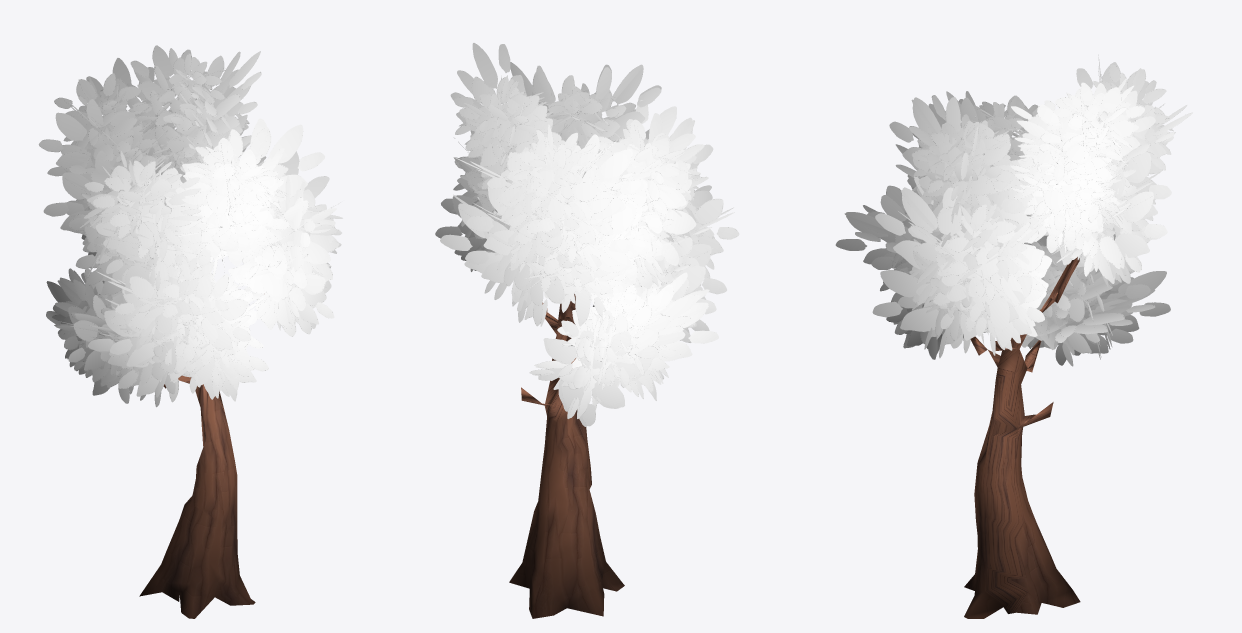
The model's file is CommonTree_5.gltf.
3 views of the same model, side by side, from view 1: azimuth 30°, elevation 25°; view 2: azimuth 150°, elevation 25°; view 3: azimuth 270°, elevation 25° (orthographic). The views are drawn at different scales.
Parts seen in each view (by area): view 1: CommonTree_5; view 2: CommonTree_5; view 3: CommonTree_5.
Part boxes in pixels (bbox=[...]): CommonTree_5: bbox=[38, 45, 342, 618]; CommonTree_5: bbox=[435, 43, 739, 618]; CommonTree_5: bbox=[835, 54, 1192, 618].
Size of the model in its own units: 4.37 by 7.12 by 4.91.
2 materials, 2 textured.
